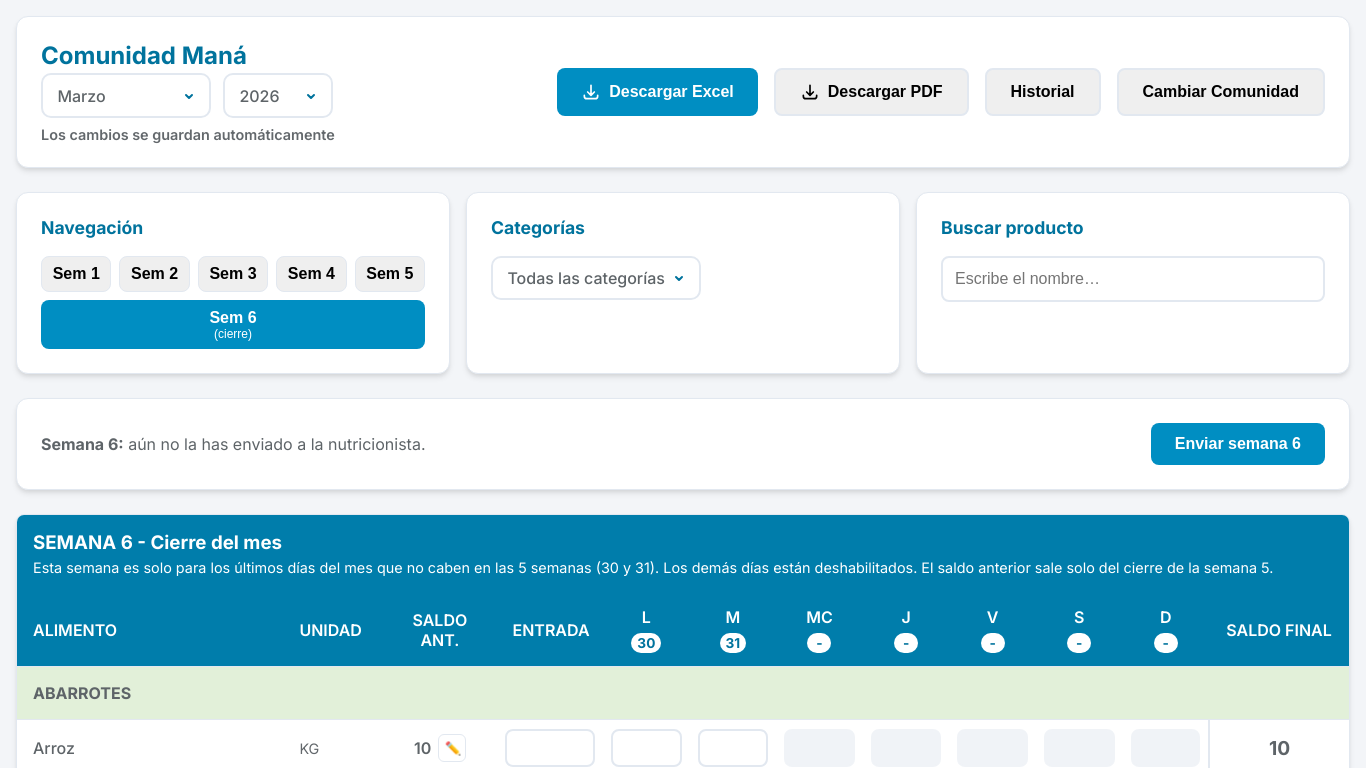
Test case: kardex: semana 6 de cierre › registrar el 30 guarda arreglos completos de 42 salidas, 6 entradas y 6 saldos, con el valor en la posición 35
Type "1" into the 2nd number field.
click(646, 748); type("1")  # box [611,729,682,767]
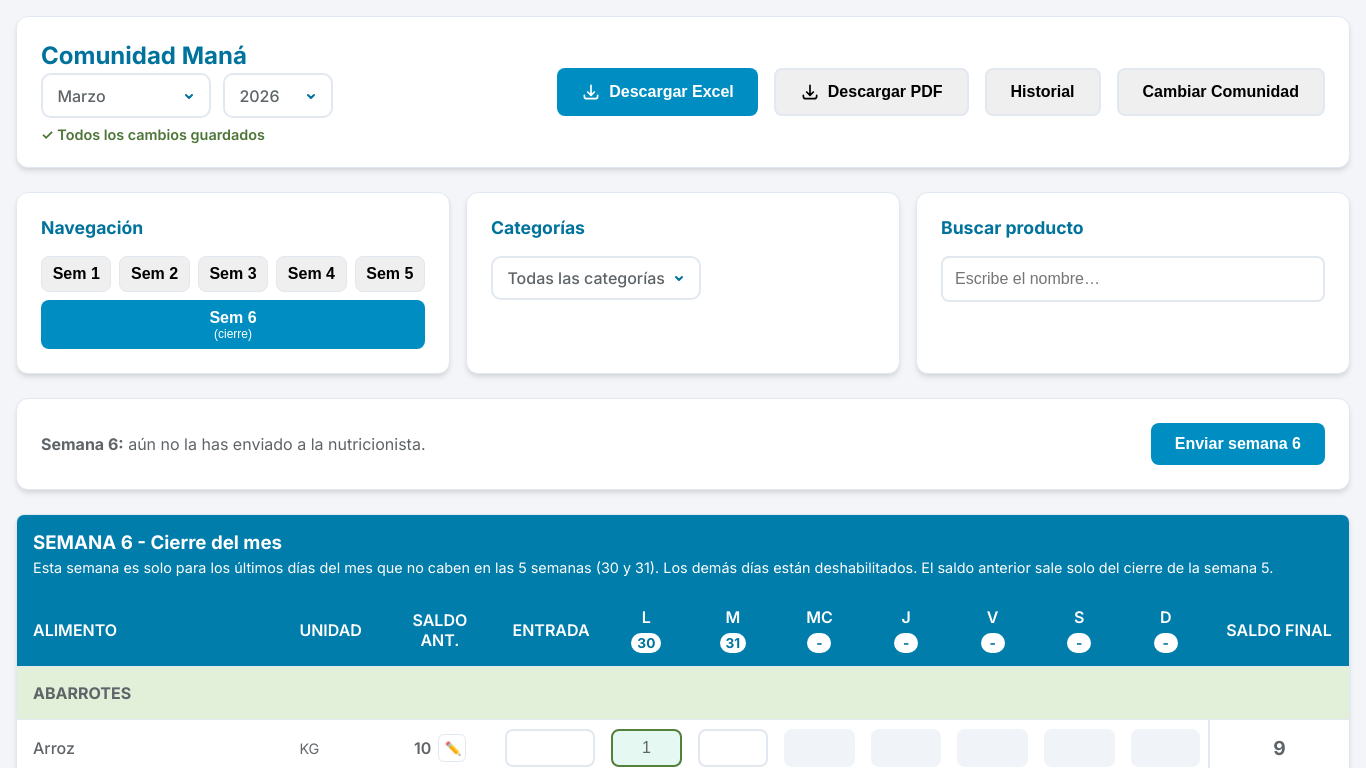
Type "3" into the 1st number field.
click(550, 748); type("3")  # box [504,729,595,767]
(page scrolled)
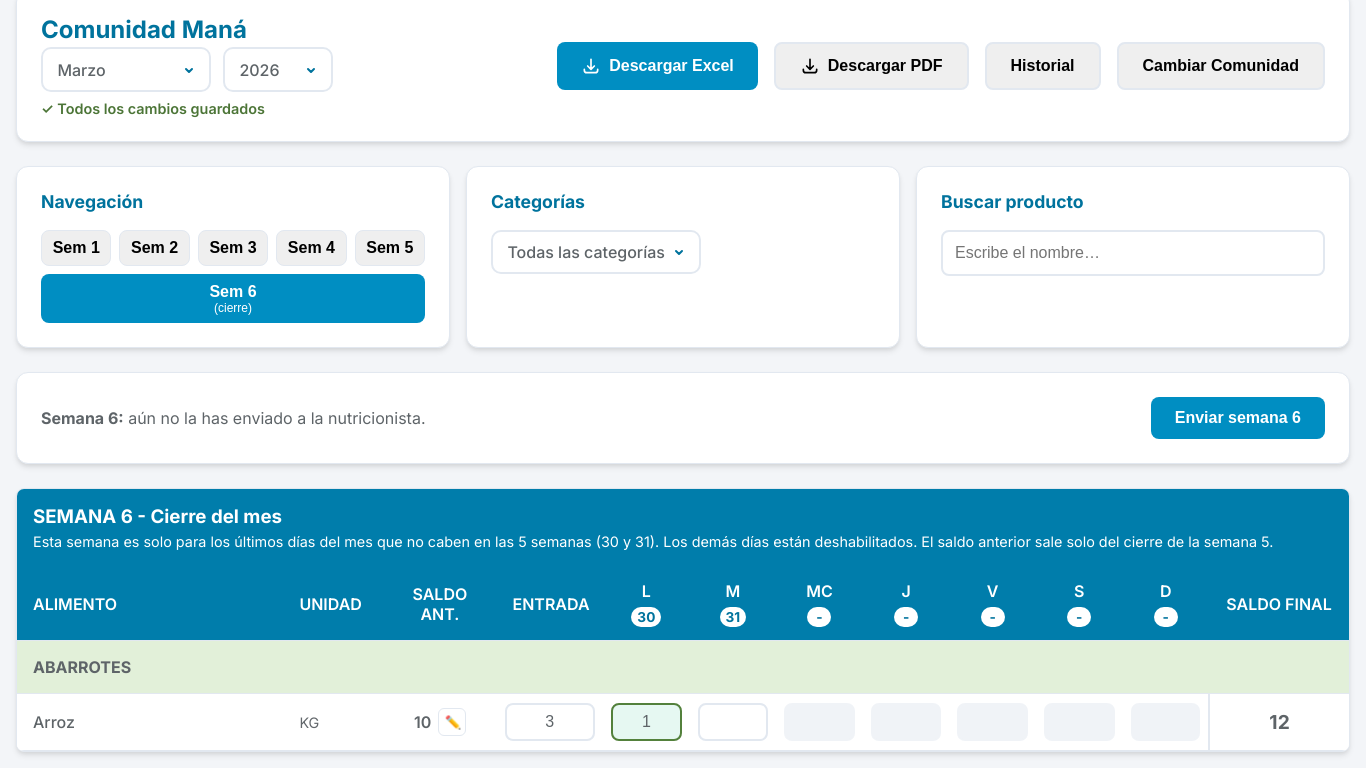
expect the cell "12" is shown: met, box [1209,694,1349,751]
